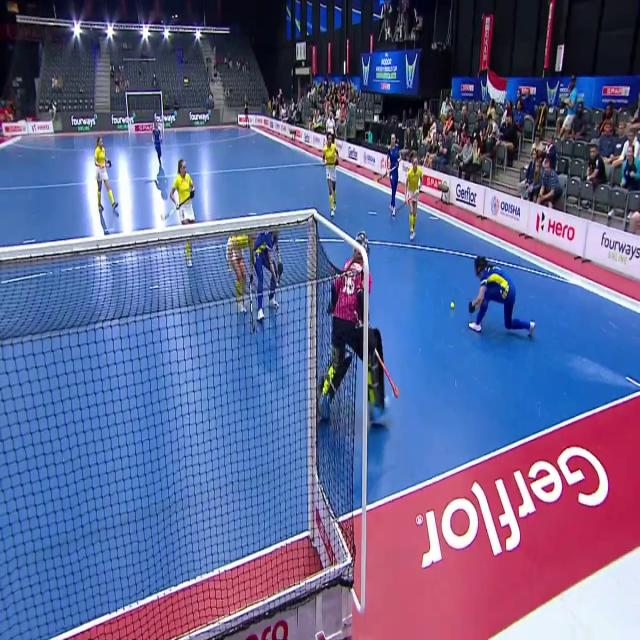ball: (449, 295, 457, 314)
